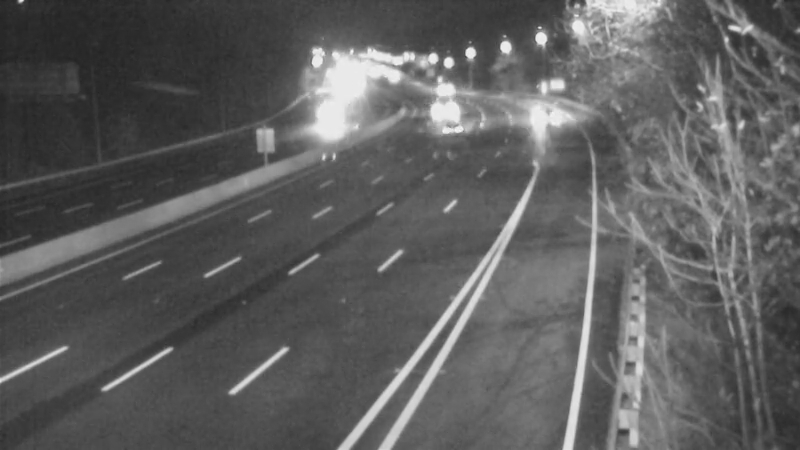vehicle: (423, 61, 473, 111), (516, 88, 566, 138), (414, 81, 464, 131), (427, 100, 477, 150), (304, 94, 354, 144)
